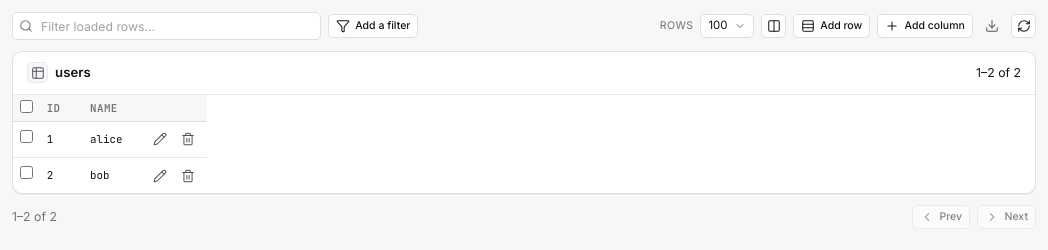
Test: DataTab › staging and saving › counts unsaved rows and only then offers Save
This screenshot has width=1048, height=250.
Expected: the button "Save" is not shown
Double-click the button "alice": point(112, 139) [90,131,133,148]
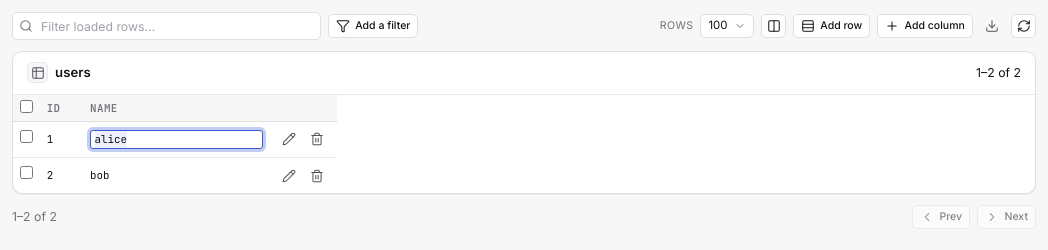
Replace the text in the field named "Cell value" with "alicia": point(177, 139) [90,130,263,149]
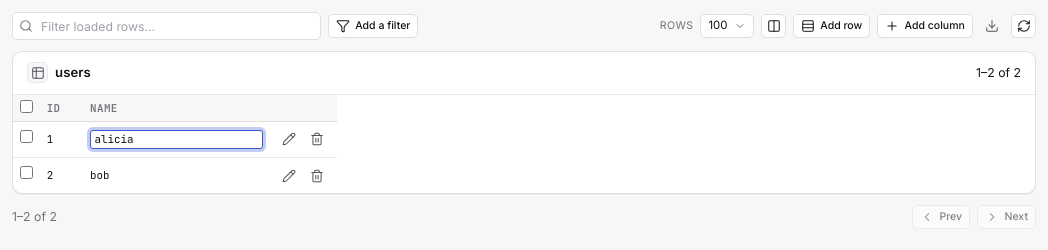
Press Enter in the field named "Cell value", box [90,130,263,149]
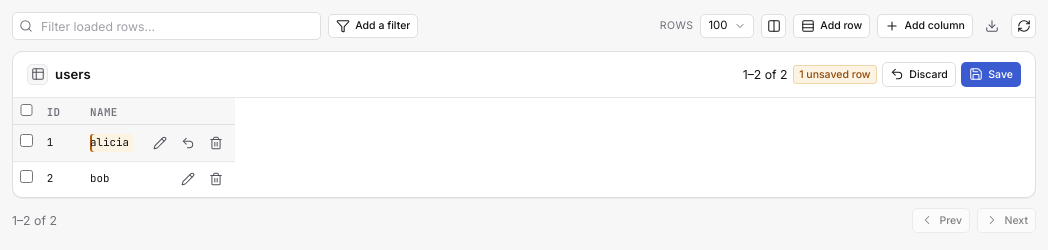
Now the text "1 unsaved row" is shown, box [793,65,877,84]
Now the button "Save" is shown, box [961,62,1021,87]
